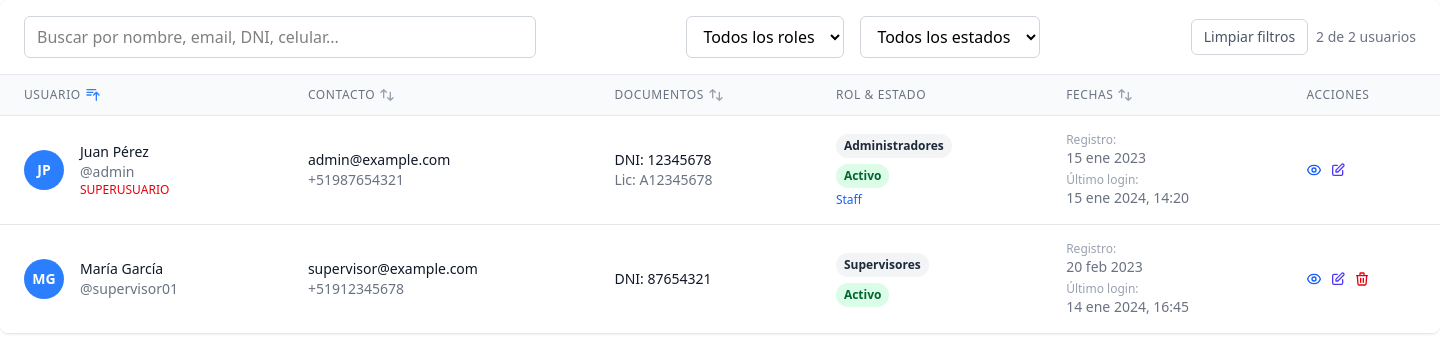
Test: UserTable › Filtering › should filter users by search term
Type "Juan" into the field with placeholder "Buscar por nombre, email, DNI, celular..." at coordinates (280, 37), box [24, 16, 536, 58]
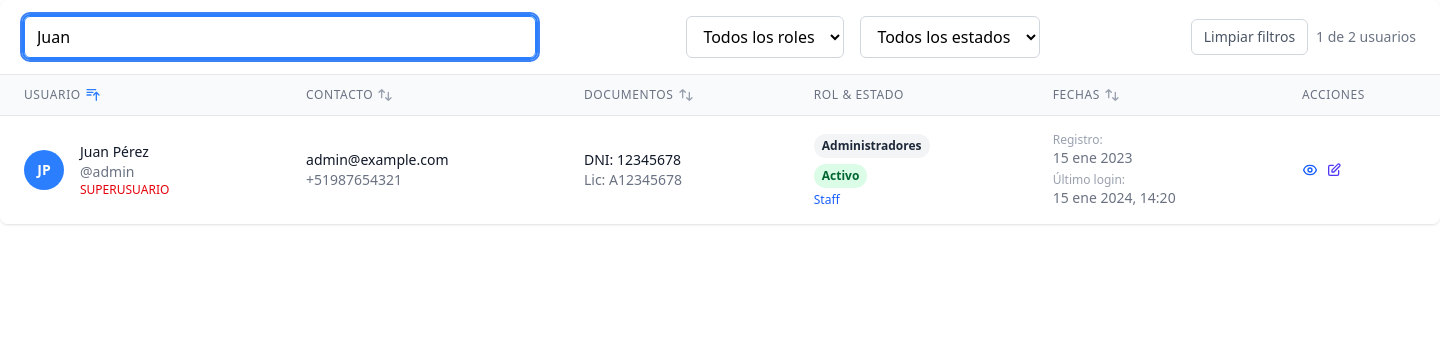
Expected: the text "Juan Pérez" is shown, [80, 142, 149, 161]
Now the text "María García" is gone
